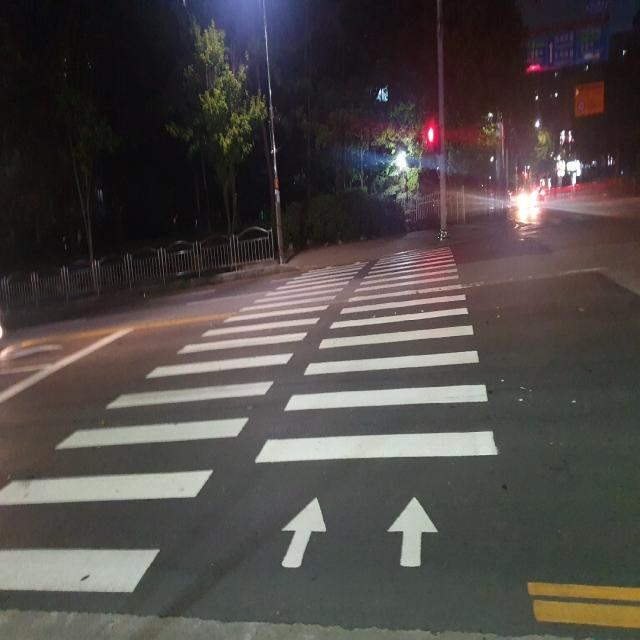빨간불: (423, 120, 436, 159)
횡단보도: (0, 244, 499, 595)
